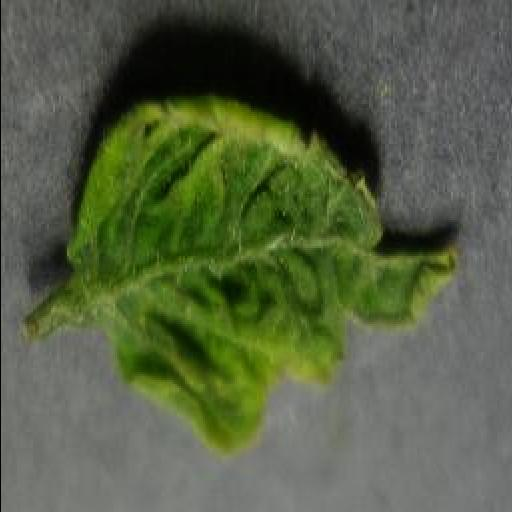disease_tomato: (70, 96, 458, 454)
